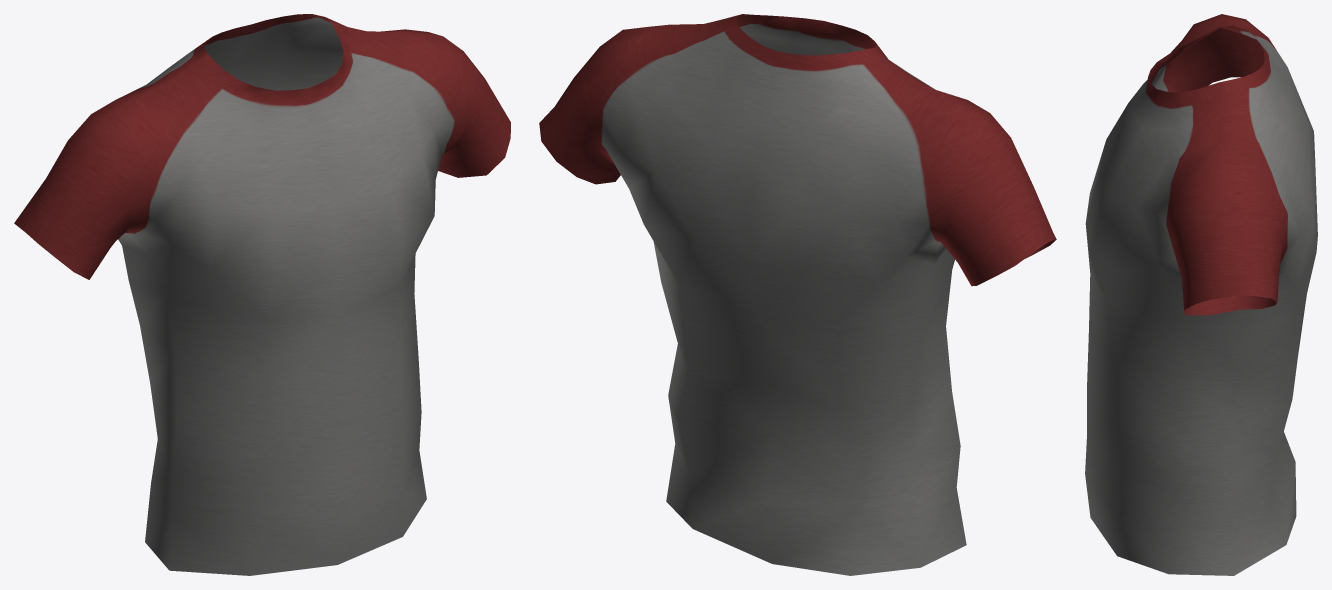
The model's file is polera-6.glb.
3 renders of one model, left to right at view 1: azimuth 30°, elevation 25°; view 2: azimuth 150°, elevation 25°; view 3: azimuth 270°, elevation 25°, orthographic. The views are drawn at different scales.
Parts seen in each view (by area): view 1: Object_2; view 2: Object_2; view 3: Object_2.
Part boxes in pixels (x1,y1,x2,y2): Object_2: (14,14,510,575); Object_2: (539,14,1056,575); Object_2: (1085,14,1317,575).
Size of the model in its own units: 799 by 774 by 348.
Materials: 1 (1 with a texture image).
